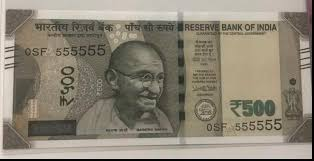fiveHundred: (19, 32, 291, 123)
